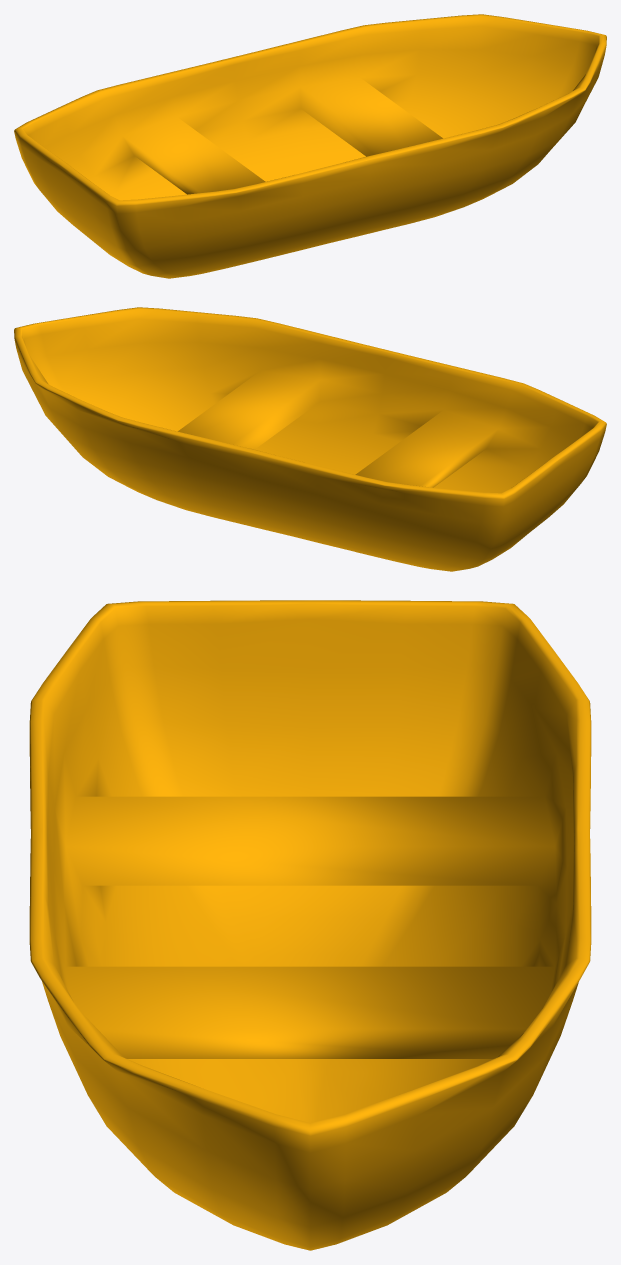
File: Boat.fbx
3 views of the same model, one above another, from view 1: azimuth 30°, elevation 25°; view 2: azimuth 150°, elevation 25°; view 3: azimuth 270°, elevation 25° (orthographic). The views are drawn at different scales.
Visible parts, largest first — view 1: Sphere; view 2: Sphere; view 3: Sphere.
Part boxes in pixels (x1,y1,x2,y2): Sphere: [14, 14, 606, 278]; Sphere: [14, 307, 606, 571]; Sphere: [29, 600, 591, 1250].
Size of the model in its own units: 286 by 64.15 by 128.
